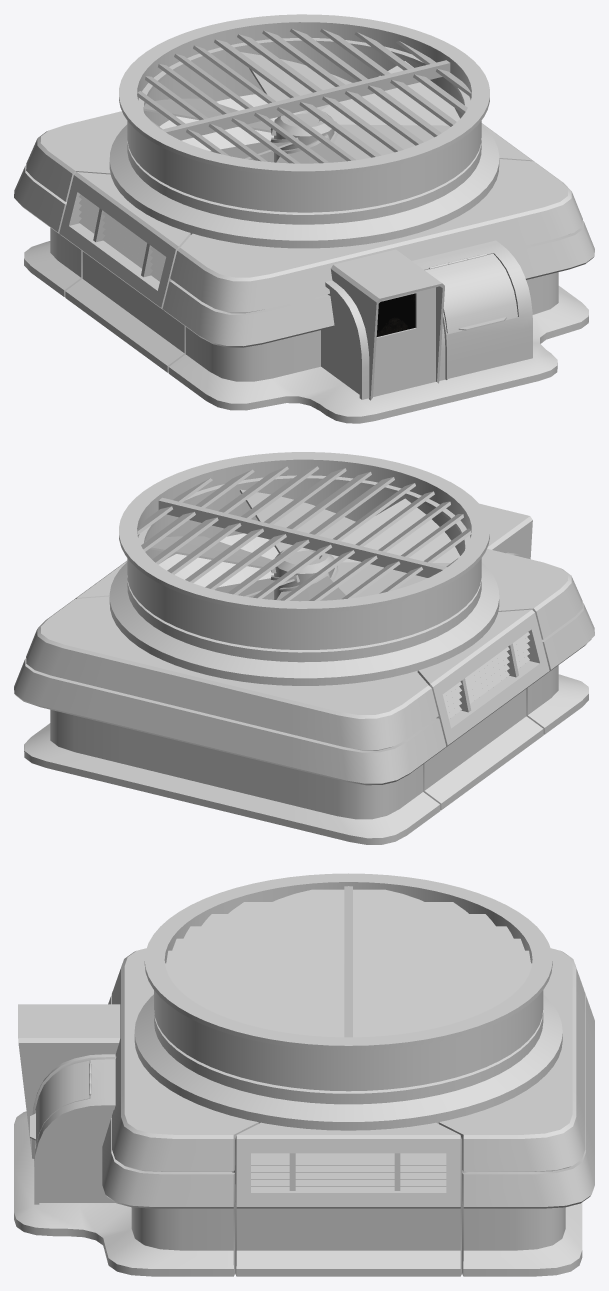
Rendered from KB3D_NSF_PropRoofACUnit_B.fbx.
3 renders of one model, top to bottom at view 1: azimuth 30°, elevation 25°; view 2: azimuth 150°, elevation 25°; view 3: azimuth 270°, elevation 25°, orthographic. The views are drawn at different scales.
Parts seen in each view (by area): view 1: KB3D_NSF_PropRoofACUnit_B_Main; view 2: KB3D_NSF_PropRoofACUnit_B_Main; view 3: KB3D_NSF_PropRoofACUnit_B_Main.
Boxes of the visible parts, <box> form: KB3D_NSF_PropRoofACUnit_B_Main: <box>14,14,594,423</box>; KB3D_NSF_PropRoofACUnit_B_Main: <box>14,452,594,844</box>; KB3D_NSF_PropRoofACUnit_B_Main: <box>14,873,594,1276</box>.
Size of the model in its own units: 342 by 165 by 403.
